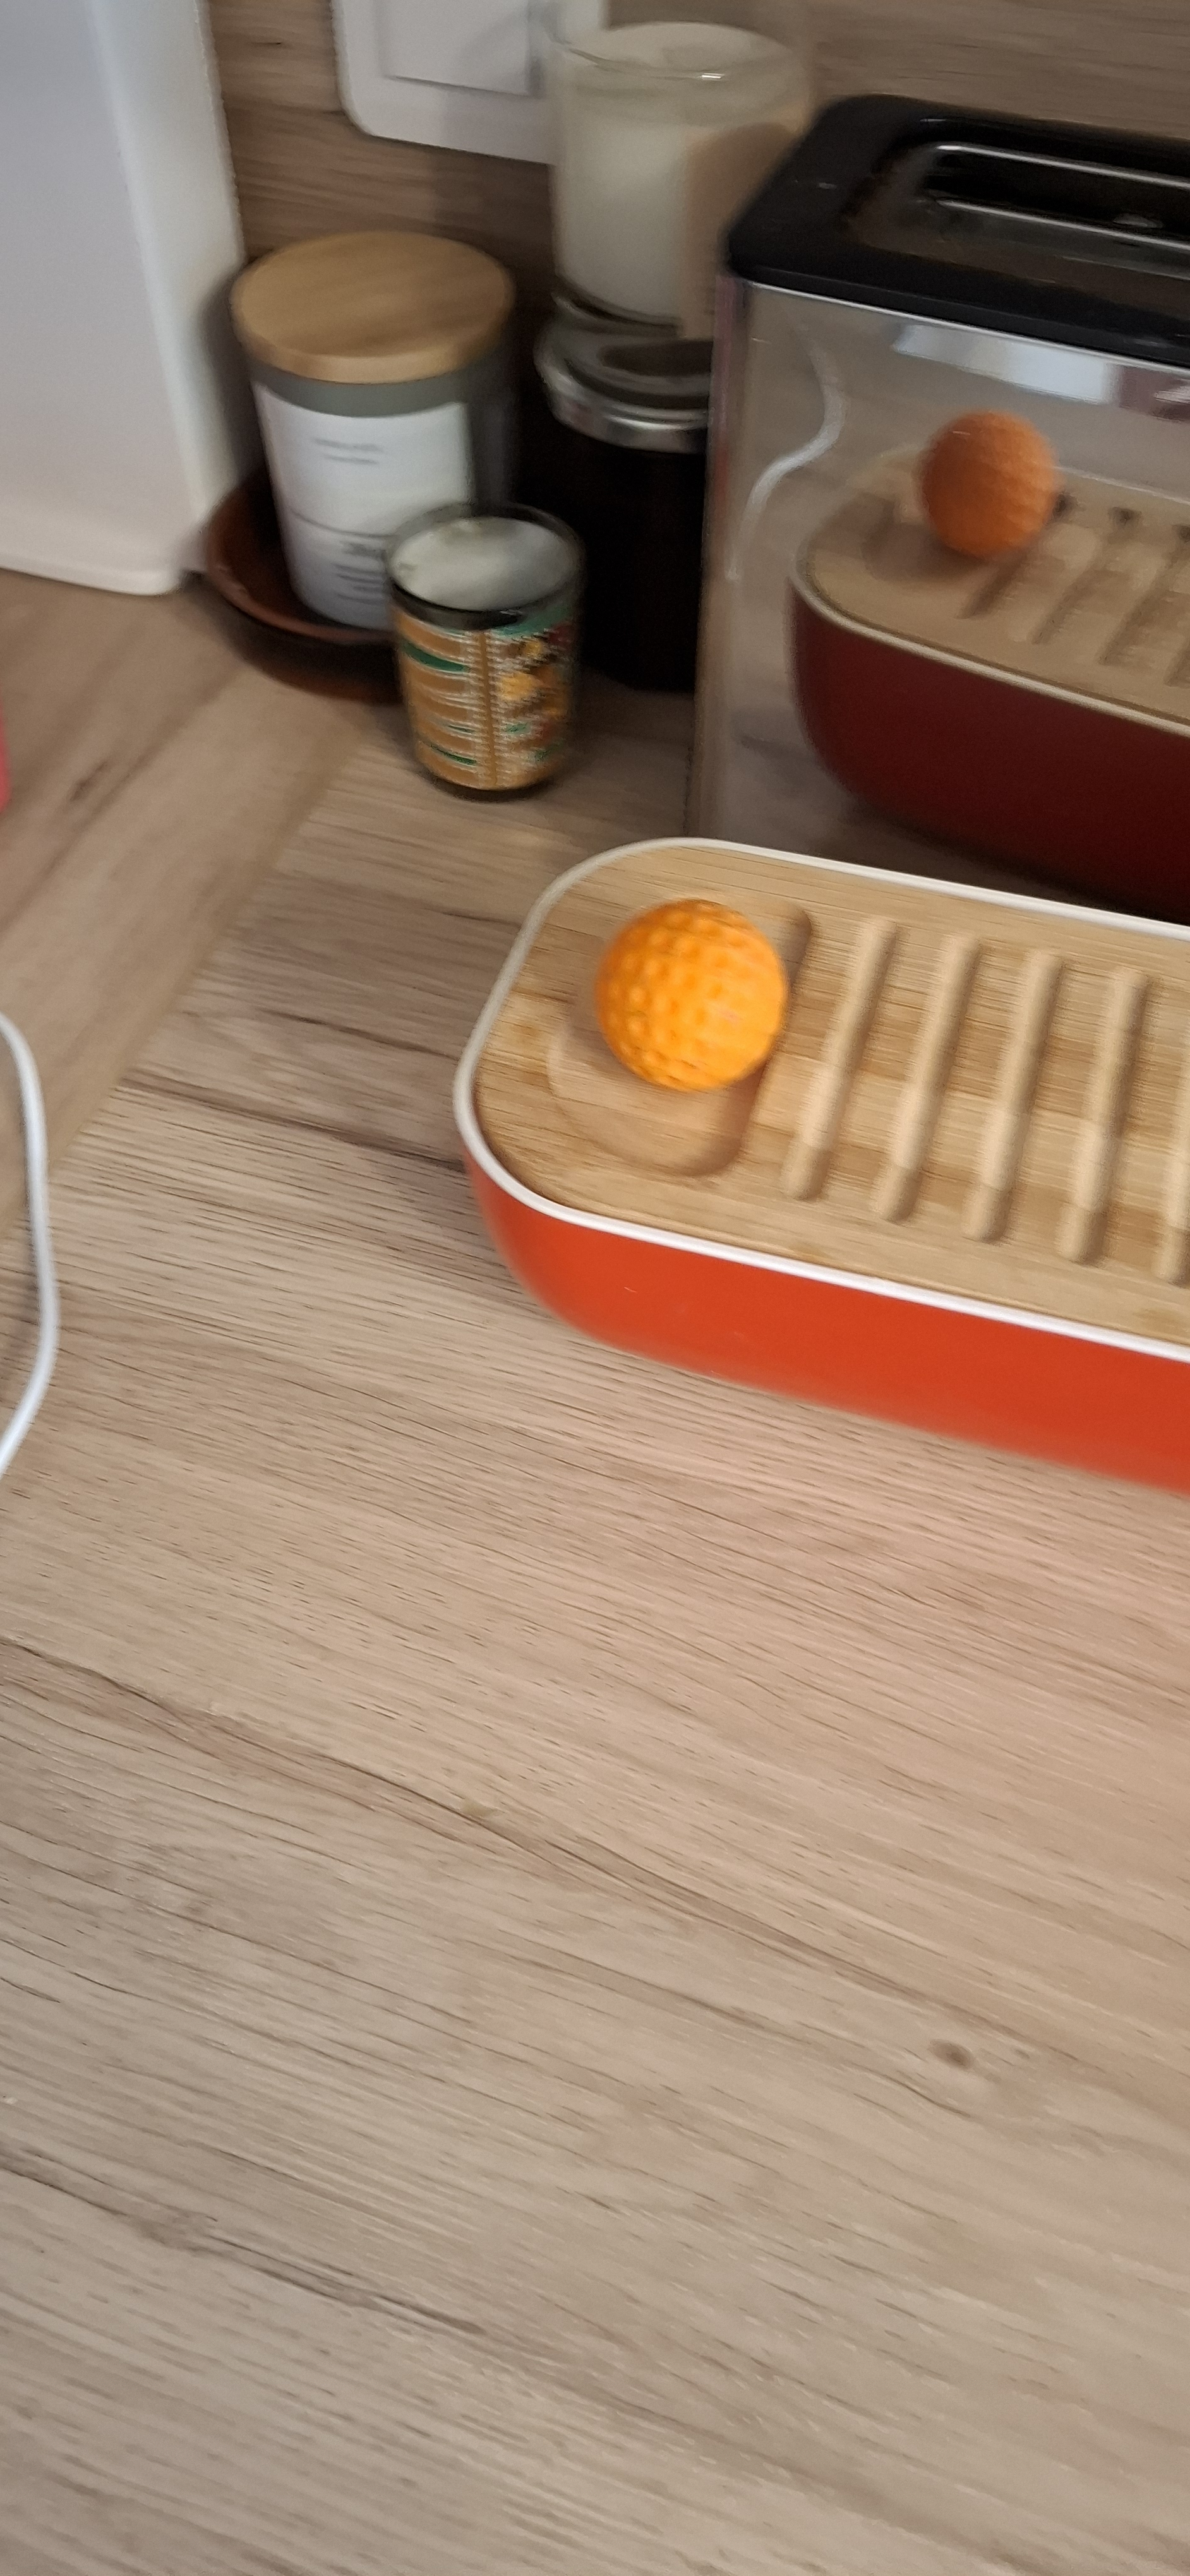ball: (416, 876, 505, 1291)
